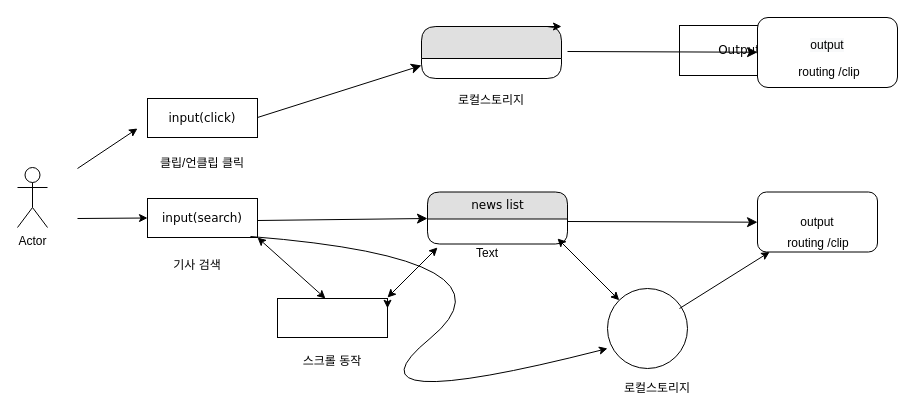
The diagram is 915 pixels wide and 419 high, and some of its shapes have lost their labels. Here are the shapes that lost their labels. From the top down, the box of each, then its label:
(420, 26, 562, 78): clip list
(276, 298, 388, 338): input(sroll)
(606, 288, 688, 368): Search history
